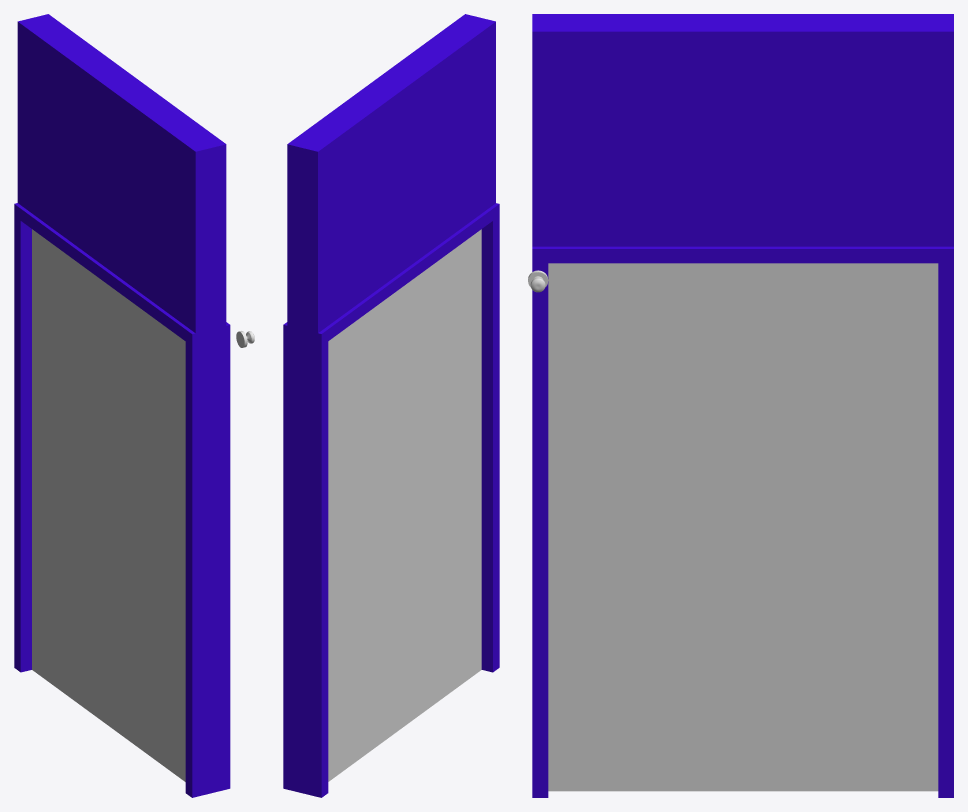
Rendered from Hallway_Wall_Door_1u.fbx.
3 renders of one model, left to right at view 1: azimuth 30°, elevation 25°; view 2: azimuth 150°, elevation 25°; view 3: azimuth 270°, elevation 25°, orthographic. The views are drawn at different scales.
Parts seen in each view (by area): view 1: Hallway_Wall_Door_1u, Gym_Door_01; view 2: Hallway_Wall_Door_1u, Gym_Door_01; view 3: Gym_Door_01, Hallway_Wall_Door_1u.
Boxes of the visible parts, <box> form: Hallway_Wall_Door_1u: <box>14,14,230,797</box>; Gym_Door_01: <box>32,229,185,781</box>; Hallway_Wall_Door_1u: <box>283,14,499,797</box>; Gym_Door_01: <box>328,229,481,781</box>; Gym_Door_01: <box>548,263,938,791</box>; Hallway_Wall_Door_1u: <box>532,14,953,797</box>.
Size of the model in its own units: 205 by 2000 by 1010.
